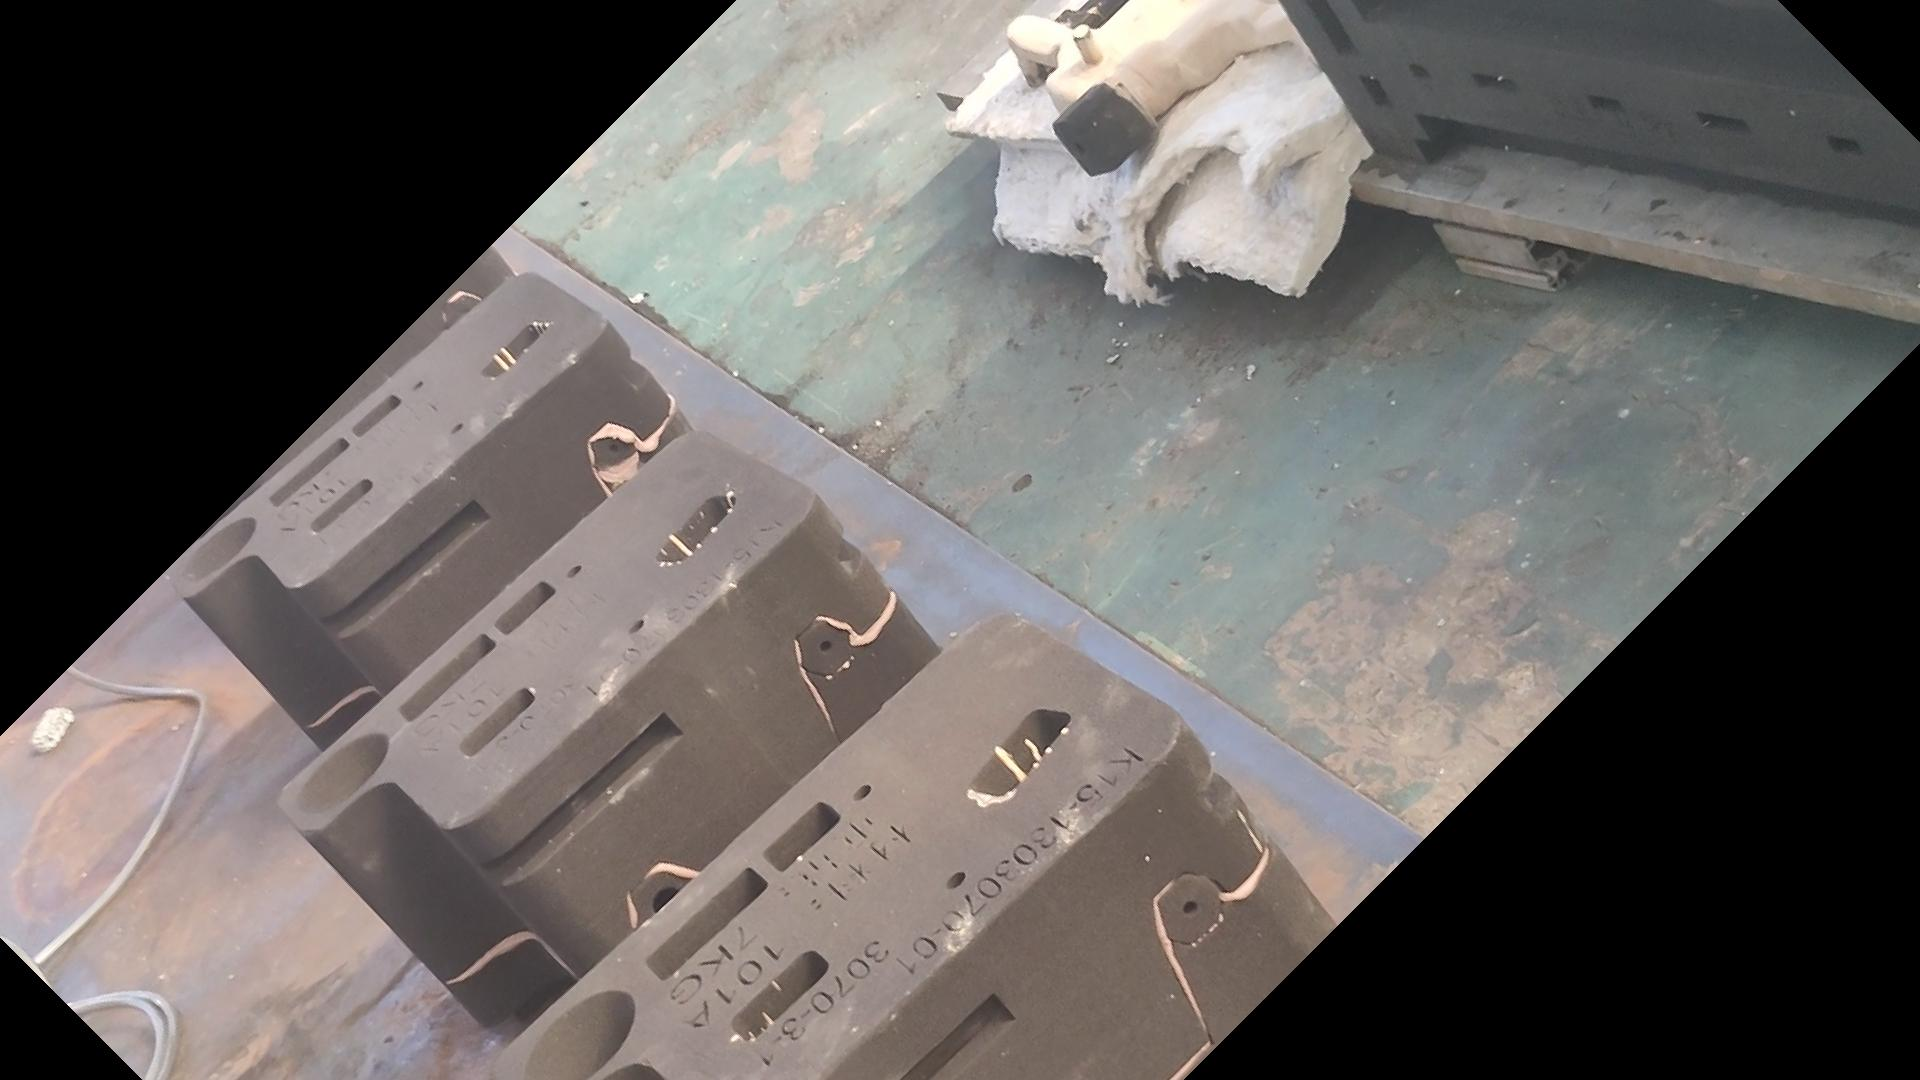pouring hole: (524, 989, 636, 1080), (295, 735, 389, 815), (179, 516, 256, 582)
